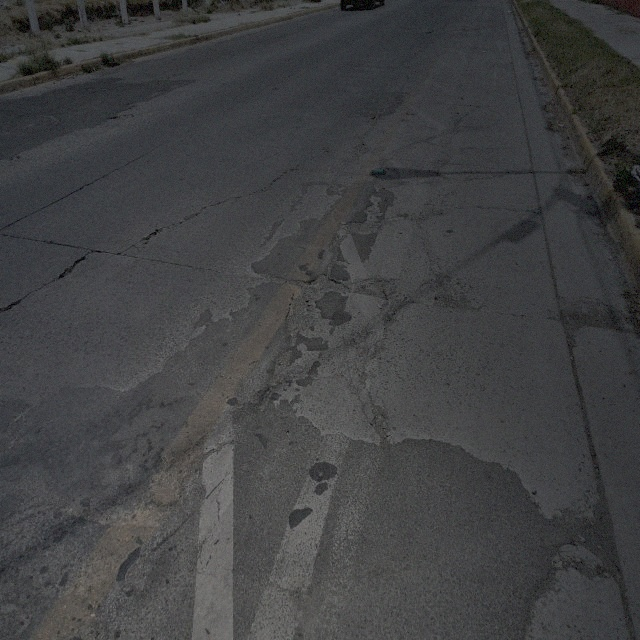pothole: (586, 480, 624, 584), (558, 308, 624, 334), (288, 288, 306, 350), (432, 287, 474, 313), (356, 274, 388, 306), (368, 405, 391, 449), (311, 273, 350, 298), (384, 298, 405, 331), (270, 350, 284, 394), (369, 116, 378, 122)
